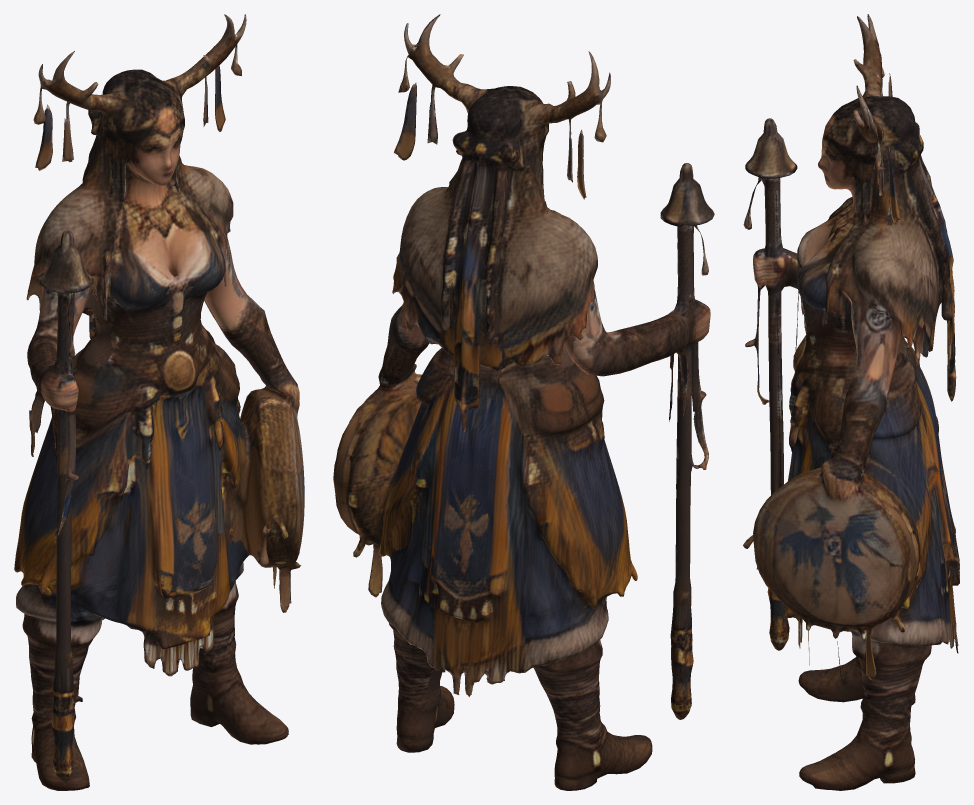
Rendered from drum-rodin.glb.
The picture shows the model from 3 angles, left to right: view 1: azimuth 30°, elevation 25°; view 2: azimuth 150°, elevation 25°; view 3: azimuth 270°, elevation 25°; orthographic projection. The views are drawn at different scales.
Parts seen in each view (by area): view 1: model; view 2: model; view 3: model.
Boxes of the visible parts, bbox=[...] form: model: bbox=[14, 14, 304, 790]; model: bbox=[333, 14, 714, 790]; model: bbox=[743, 14, 959, 790].
Size of the model in its own units: 0.8428 by 1.89 by 0.5413.
Materials: 1 (1 with a texture image).
